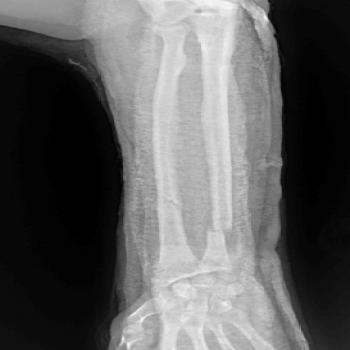Fracture: (196, 220, 245, 243)
